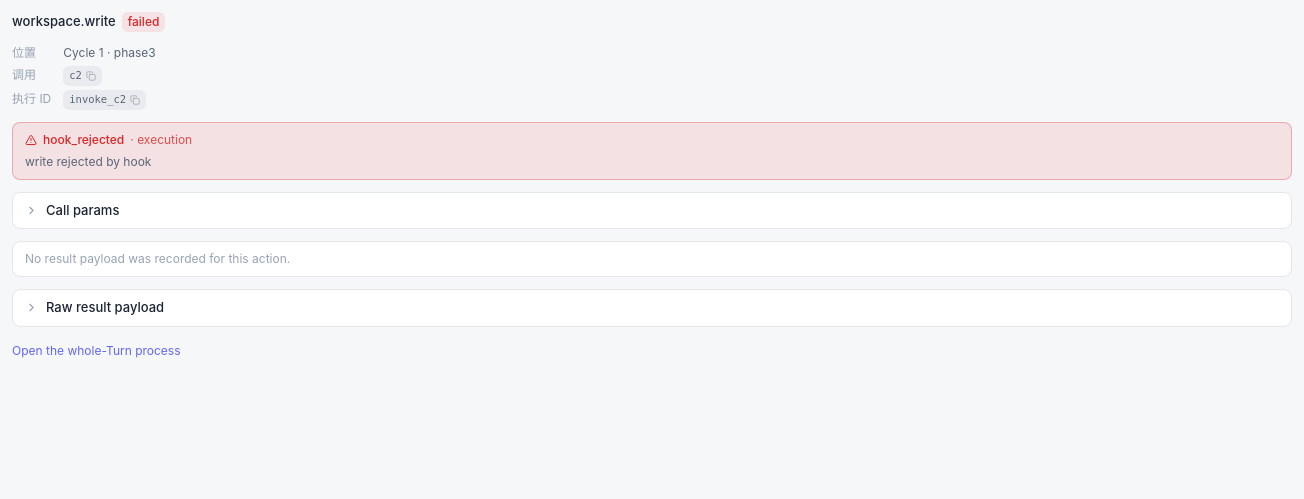
Test: ActionDetailPanel › locates by the same-name ordinal and renders the failure honestly
The image size is (1304, 499).
Click the button "Call params": (83, 210) [13, 192, 1291, 228]
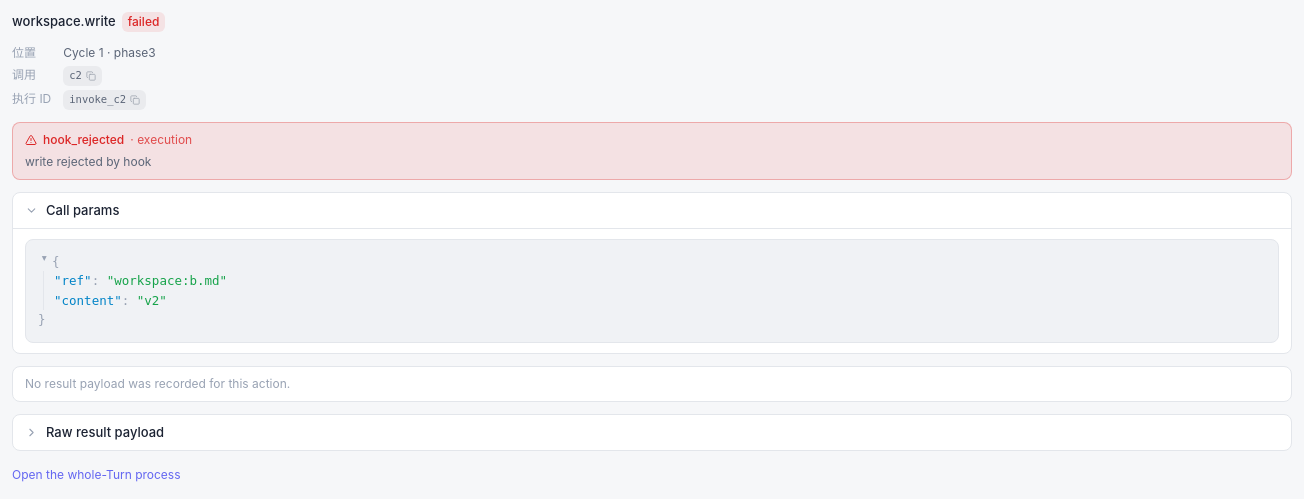
Expected: the text "workspace:b.md" is shown, [107, 273, 227, 288]
